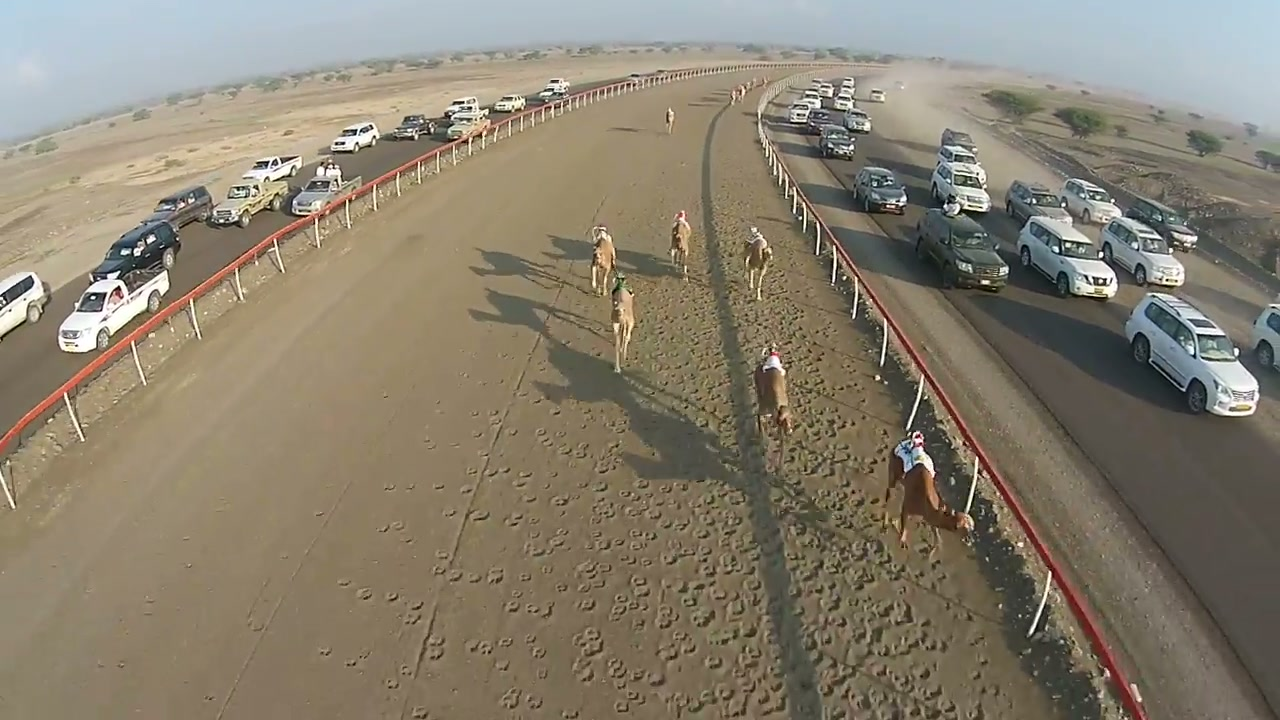animal_foot_print: (311, 373, 995, 711), (671, 293, 857, 431)
